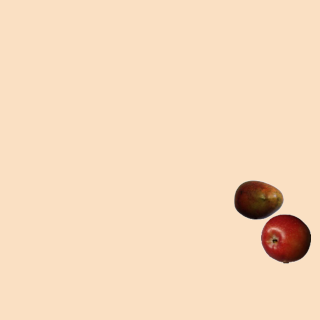Apple Braeburn: (260, 213, 310, 263)
Mango Red: (233, 174, 283, 224)
